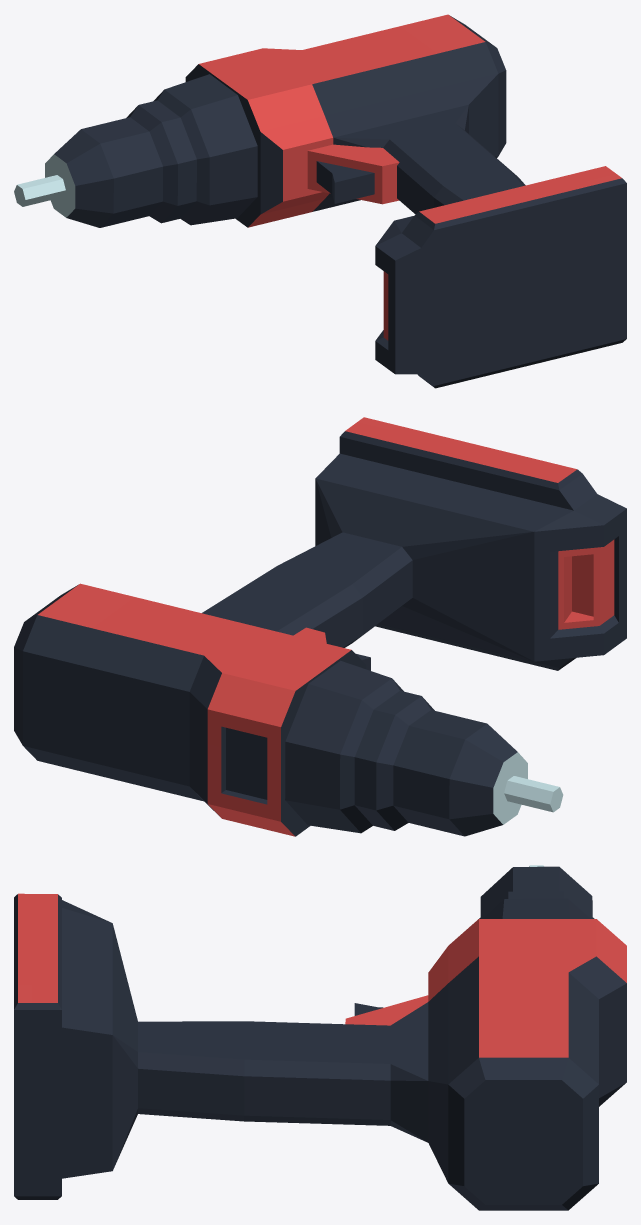
The model's file is drill.glb.
3 views of the same model, one above another, from view 1: azimuth 30°, elevation 25°; view 2: azimuth 150°, elevation 25°; view 3: azimuth 270°, elevation 25° (orthographic). The views are drawn at different scales.
Visible parts, largest first — view 1: Box007_Material #32_0; view 2: Box007_Material #32_0; view 3: Box007_Material #32_0.
Part boxes in pixels (x1,y1,x2,y2): Box007_Material #32_0: [14, 14, 626, 388]; Box007_Material #32_0: [14, 417, 626, 836]; Box007_Material #32_0: [14, 865, 626, 1210].
Size of the model in its own units: 19.62 by 6.77 by 19.09.
1 material, 1 textured.
